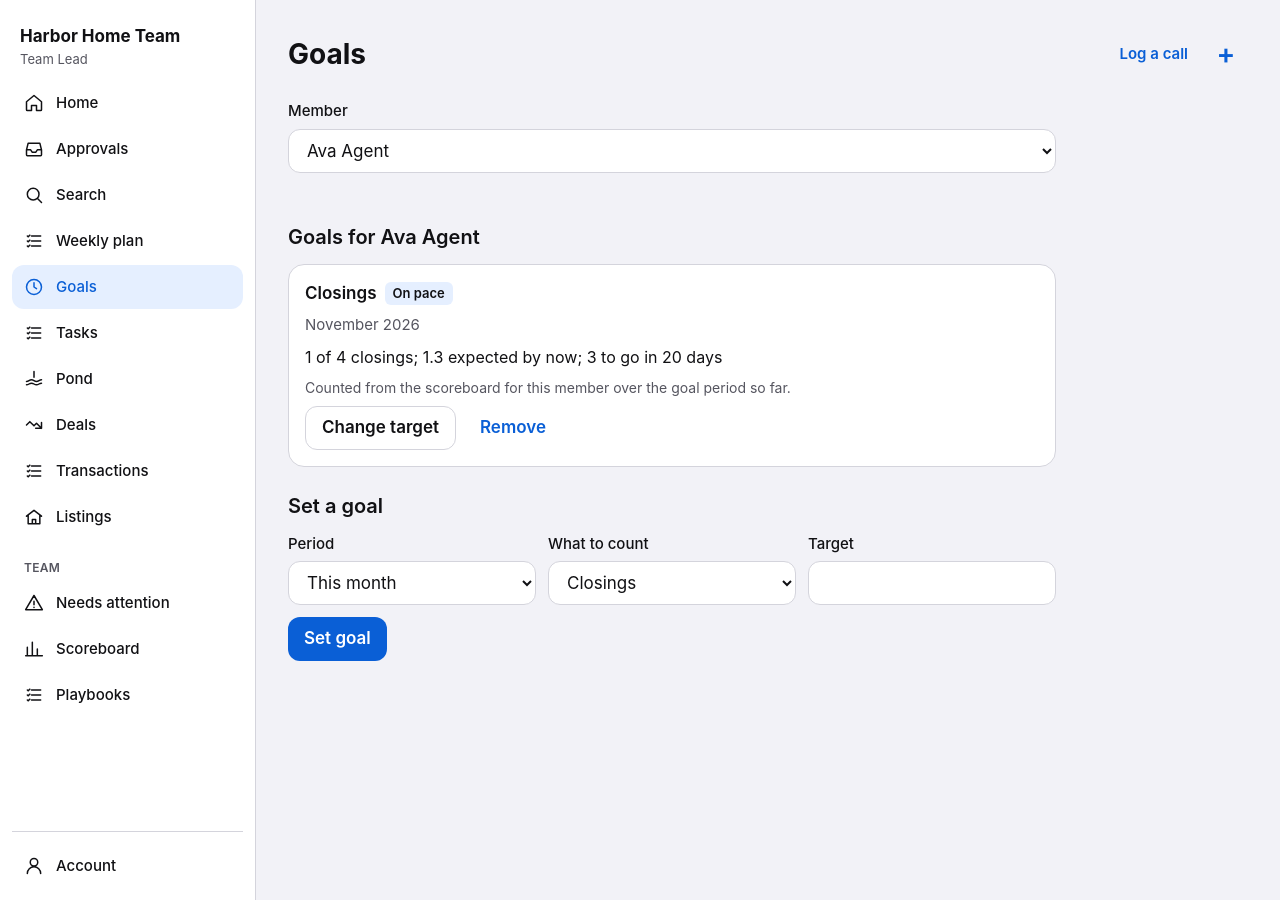
Scenario: Goals › R-PLAN-2: a Team Lead sets a goal for a member in one tap: the period starts where it starts in the team zone
Expected: the heading "Set a goal" is shown, [288,494,383,518]
Select "This quarter" in the dropdown labelled "Period" at (412, 583), box [288,561,536,605]
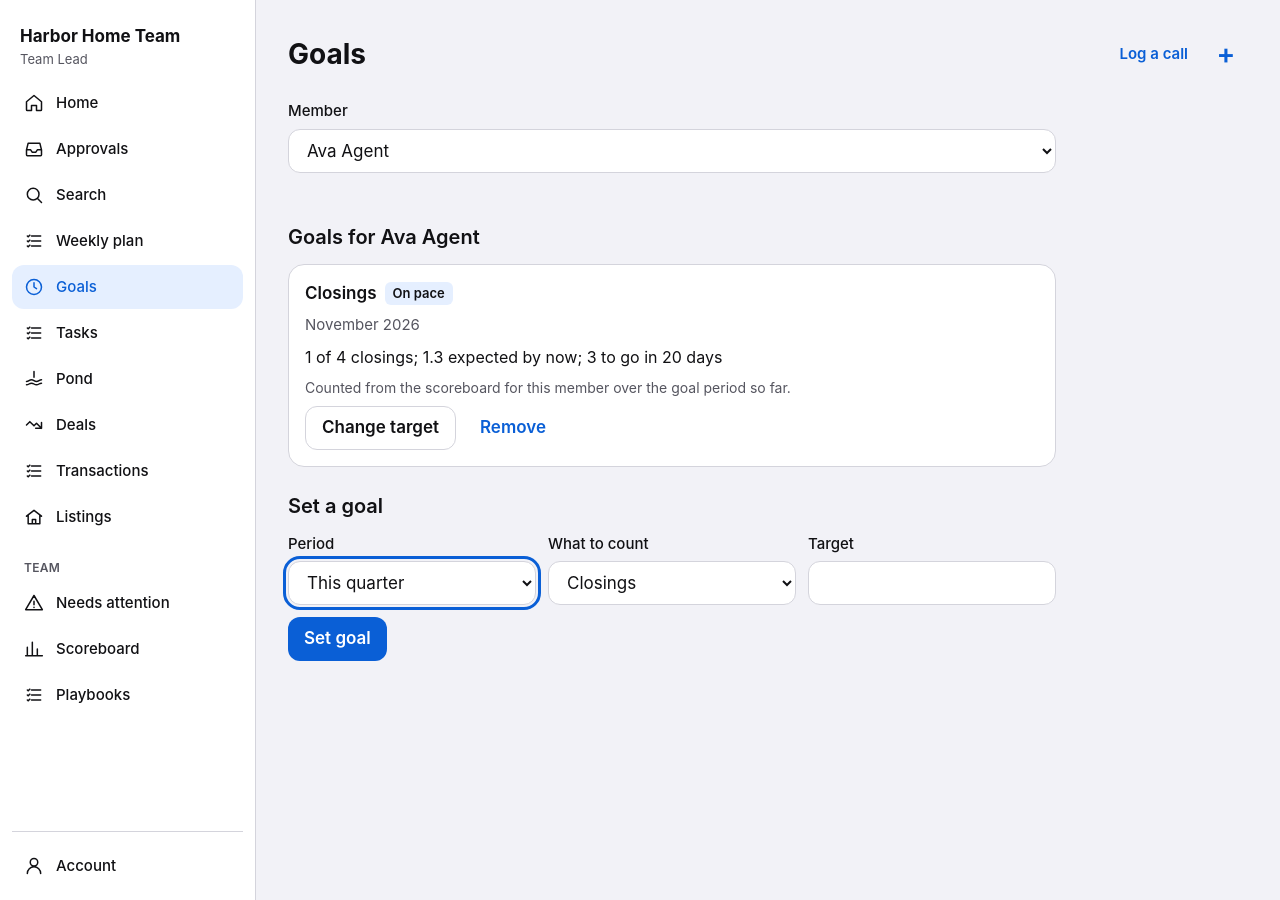
Select "Appointments set" in the dropdown labelled "What to count" at (672, 583), box [548,561,796,605]
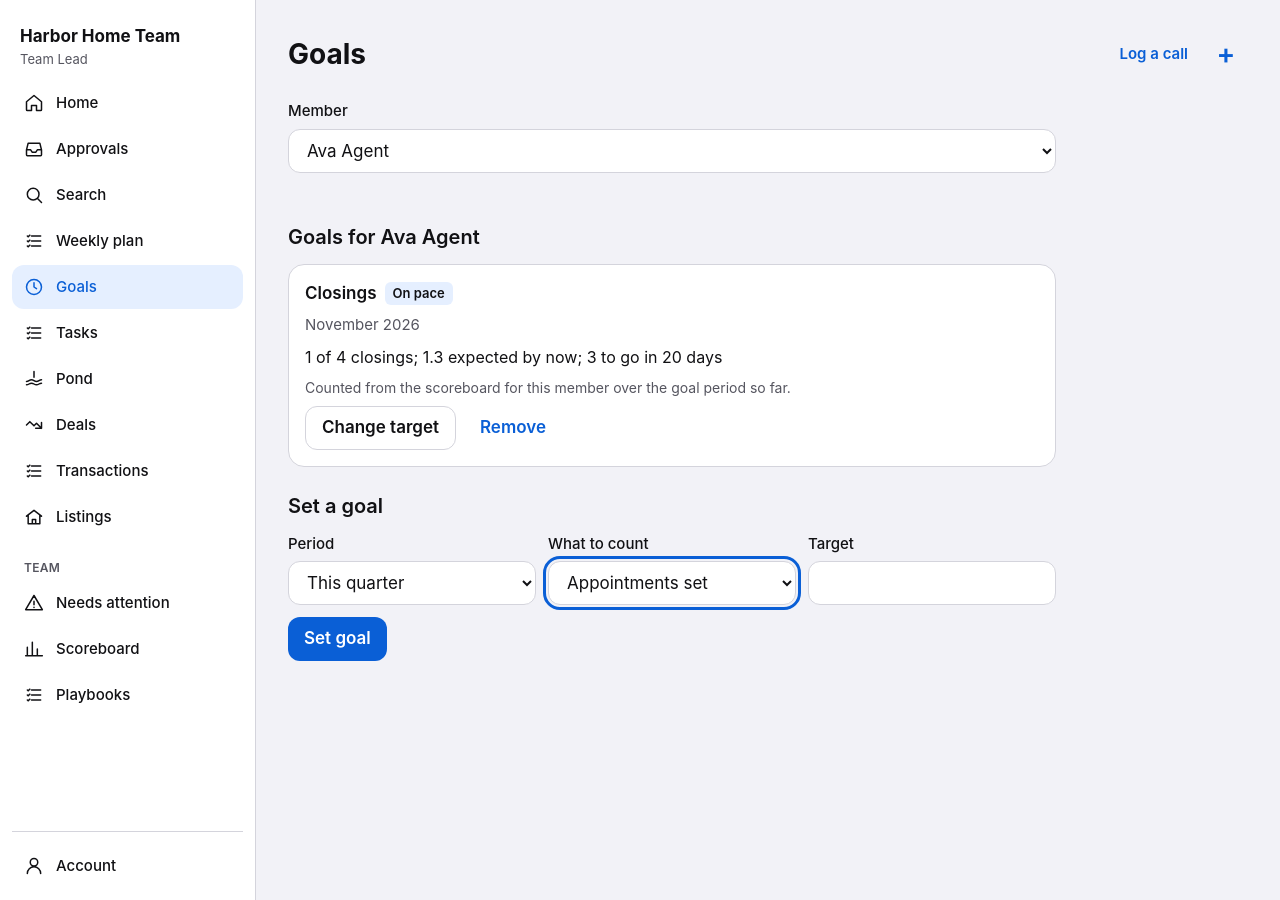
Type "12" into the field labelled "Target" at (932, 583), box [808,561,1056,605]
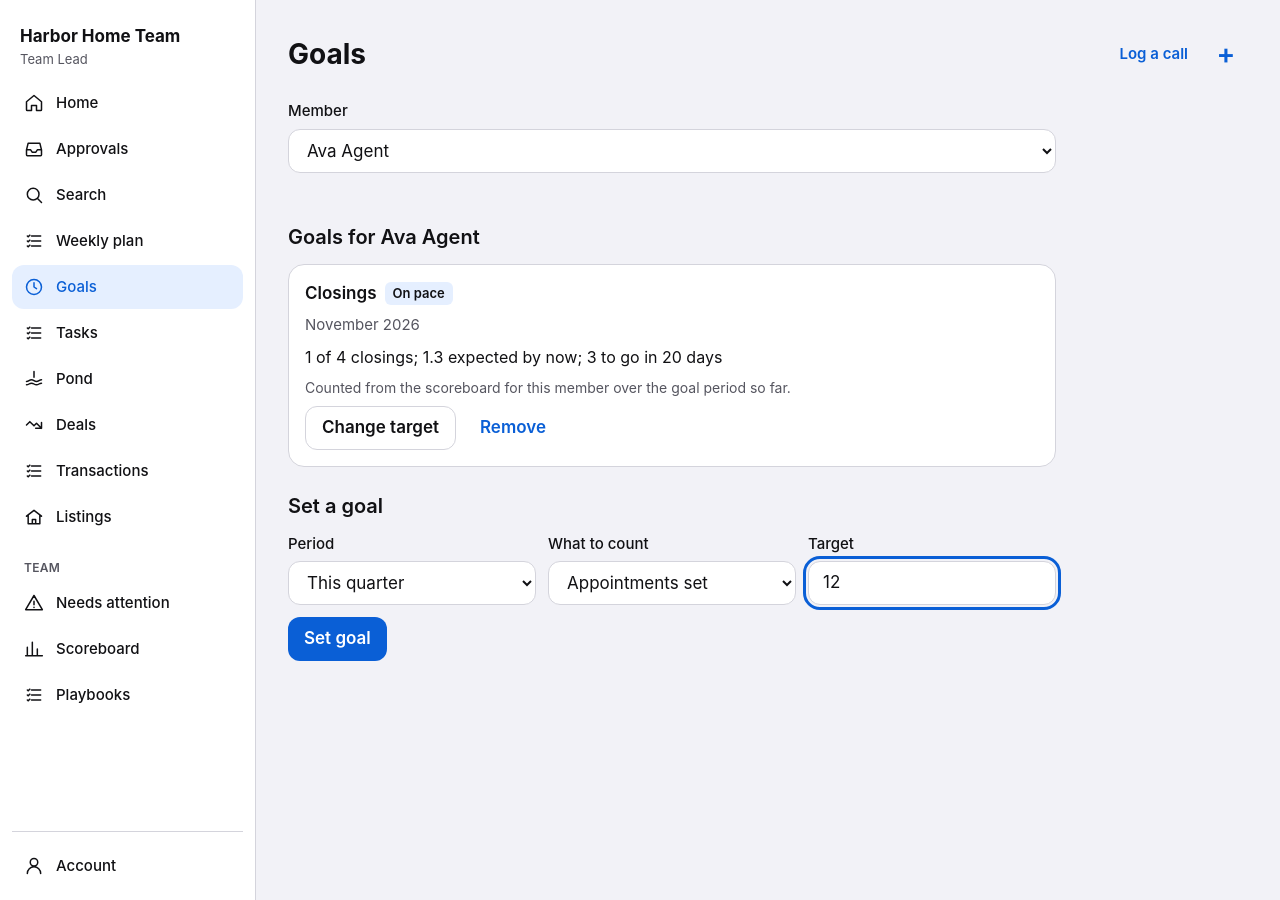
Click the button "Set goal" at (337, 639), box [288,617,387,661]
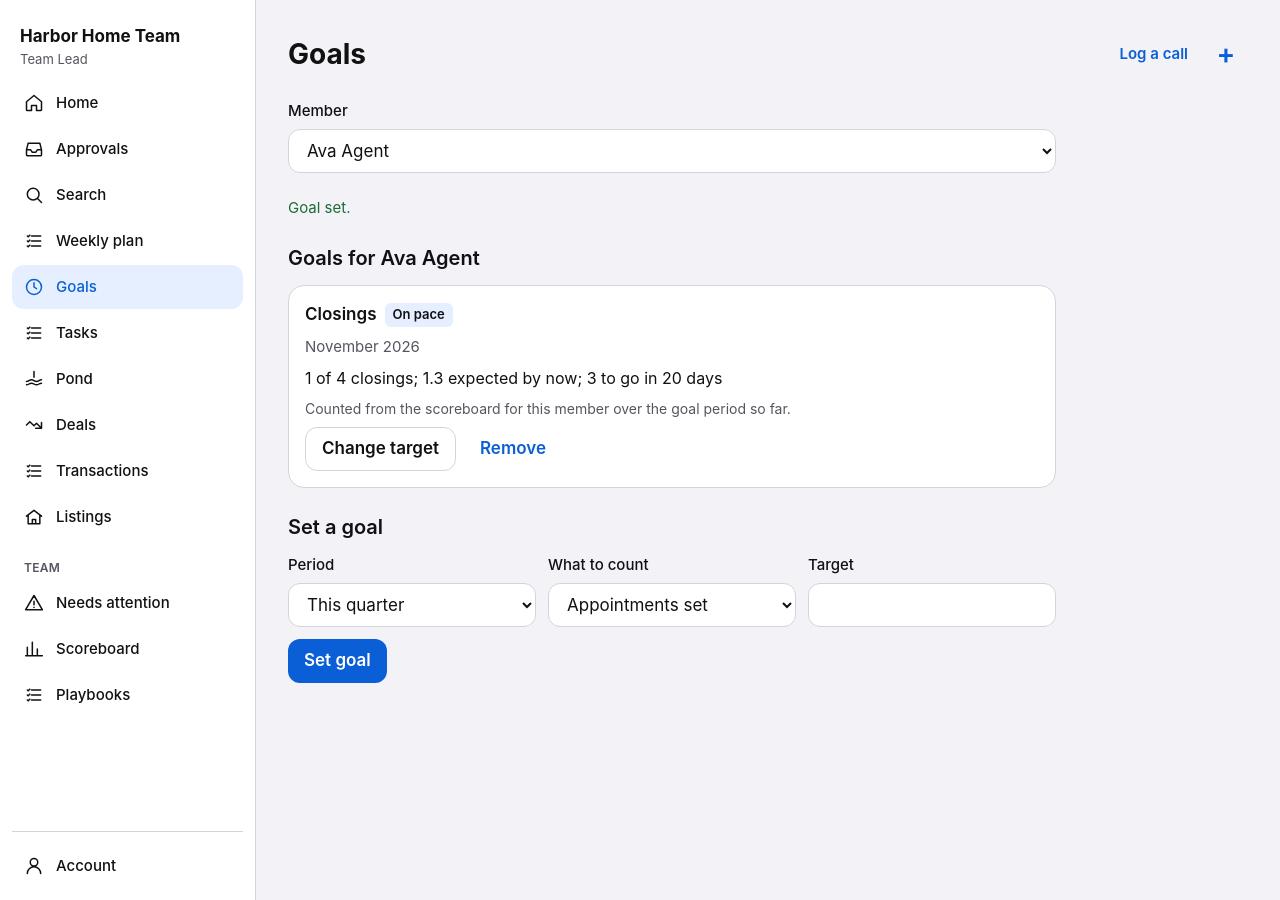
Expected: the text "Goal set." is shown, [288,198,350,216]
